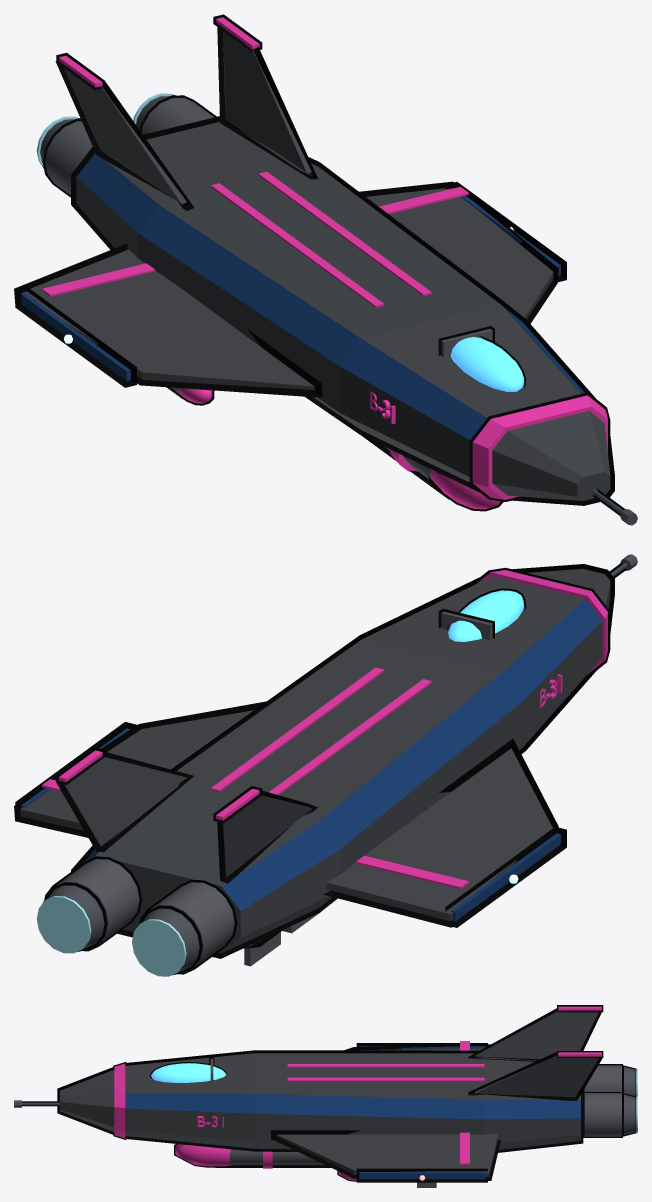
The model's file is Plane_Bomber.fbx.
The picture shows the model from 3 angles, top to bottom: view 1: azimuth 30°, elevation 25°; view 2: azimuth 150°, elevation 25°; view 3: azimuth 270°, elevation 25°; orthographic projection. The views are drawn at different scales.
Parts seen in each view (by area): view 1: Hull.003, Wing-1.003, Wing1.003, Fin1.003, Fin-1.003, NoseBand.002, WingTip-1.001, Canopy.003, Eng-1_Body.002, TopStripe1, TopStripe-1, Eng1_Body.002 (+7 smaller); view 2: Hull.003, Wing-1.003, Fin1.003, Wing1.003, Fin-1.003, Eng1_Body.002, Eng-1_Body.002, WingTip-1.001, Eng-1_Glow.002, Eng1_Glow.002, Canopy.003, NoseBand.002 (+9 smaller); view 3: Hull.003, Wing1.003, Fin-1.003, Fin1.003, WingTip1.001, Eng1_Body.002, Torpedo_Body, Canopy.003, Torpedo_Nose, TopStripe1, NoseBand.002, Eng-1_Body.002 (+8 smaller).
Part boxes in pixels (left/top/right/bottom): Hull.003: left=71, top=116, right=614, bottom=505; Wing-1.003: left=14, top=243, right=322, bottom=397; Wing1.003: left=359, top=181, right=558, bottom=323; Fin1.003: left=217, top=27, right=317, bottom=179; Fin-1.003: left=55, top=60, right=194, bottom=210; NoseBand.002: left=469, top=392, right=610, bottom=501; WingTip-1.001: left=15, top=286, right=136, bottom=387; Canopy.003: left=450, top=336, right=526, bottom=391; Eng-1_Body.002: left=42, top=119, right=92, bottom=197; TopStripe1: left=258, top=171, right=431, bottom=296; TopStripe-1: left=211, top=183, right=384, bottom=307; Eng1_Body.002: left=139, top=95, right=216, bottom=134; Hull.003: left=71, top=564, right=614, bottom=958; Wing-1.003: left=323, top=738, right=558, bottom=927; Fin1.003: left=55, top=752, right=193, bottom=852; Wing1.003: left=14, top=701, right=266, bottom=837; Fin-1.003: left=217, top=790, right=317, bottom=883; Eng1_Body.002: left=44, top=856, right=141, bottom=951; Eng-1_Body.002: left=139, top=880, right=237, bottom=974; WingTip-1.001: left=445, top=827, right=566, bottom=927; Eng-1_Glow.002: left=132, top=919, right=186, bottom=976; Eng1_Glow.002: left=36, top=896, right=91, bottom=953; Canopy.003: left=447, top=588, right=526, bottom=641; NoseBand.002: left=476, top=567, right=610, bottom=674; Hull.003: left=57, top=1050, right=583, bottom=1152; Wing1.003: left=271, top=1130, right=500, bottom=1180; Fin-1.003: left=468, top=1008, right=603, bottom=1061; Fin1.003: left=468, top=1052, right=603, bottom=1101; WingTip1.001: left=356, top=1168, right=487, bottom=1182; Eng1_Body.002: left=583, top=1092, right=622, bottom=1137; Torpedo_Body: left=215, top=1149, right=330, bottom=1167; Canopy.003: left=149, top=1062, right=227, bottom=1082; Torpedo_Nose: left=174, top=1144, right=237, bottom=1167; TopStripe1: left=287, top=1077, right=484, bottom=1081; NoseBand.002: left=113, top=1062, right=126, bottom=1139; Eng-1_Body.002: left=583, top=1064, right=622, bottom=1091.
Bounding box in the file's own units: 9.54 × 4.99 × 18.98.
